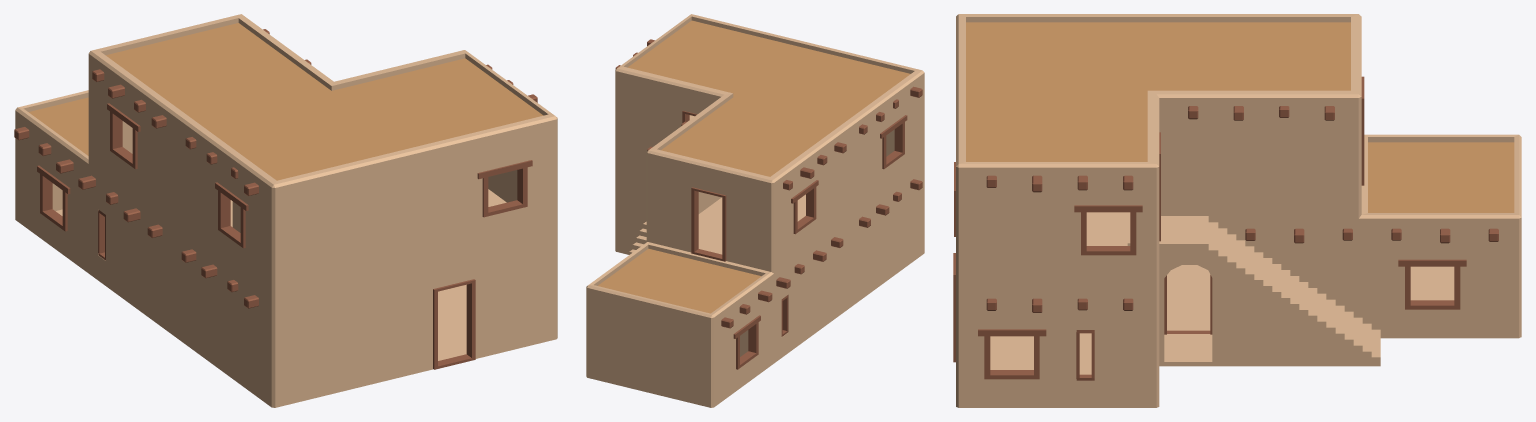
File: Large Building Frame B.glb
The picture shows the model from 3 angles, left to right: view 1: azimuth 30°, elevation 25°; view 2: azimuth 150°, elevation 25°; view 3: azimuth 270°, elevation 25°; orthographic projection. The views are drawn at different scales.
Parts seen in each view (by area): view 1: Large Building Frame B; view 2: Large Building Frame B; view 3: Large Building Frame B.
Part boxes in pixels (x1,y1,x2,y2): Large Building Frame B: [14, 14, 557, 407]; Large Building Frame B: [586, 14, 924, 407]; Large Building Frame B: [953, 14, 1521, 407].
Size of the model in its own units: 963 by 653 by 1386.
